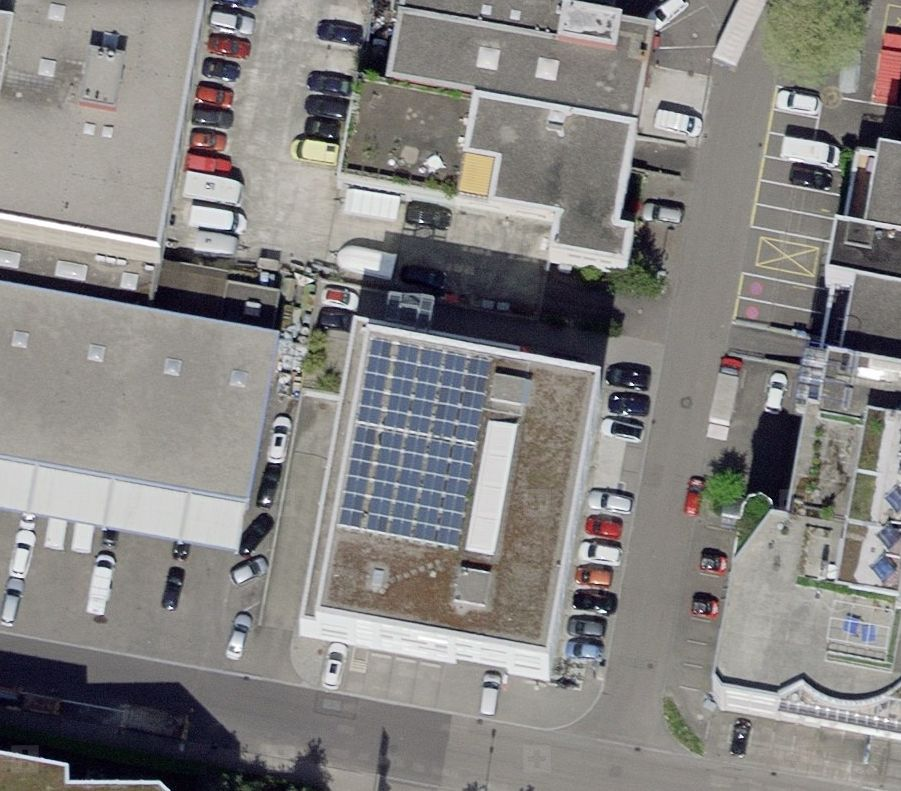solar: (338, 340, 491, 550), (867, 482, 901, 582)
